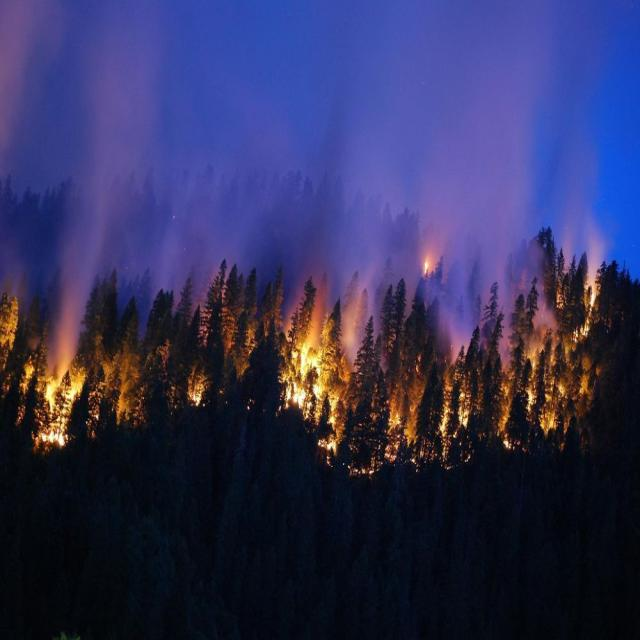Fire: (3, 305, 611, 462)
Smoke: (2, 2, 640, 342)
